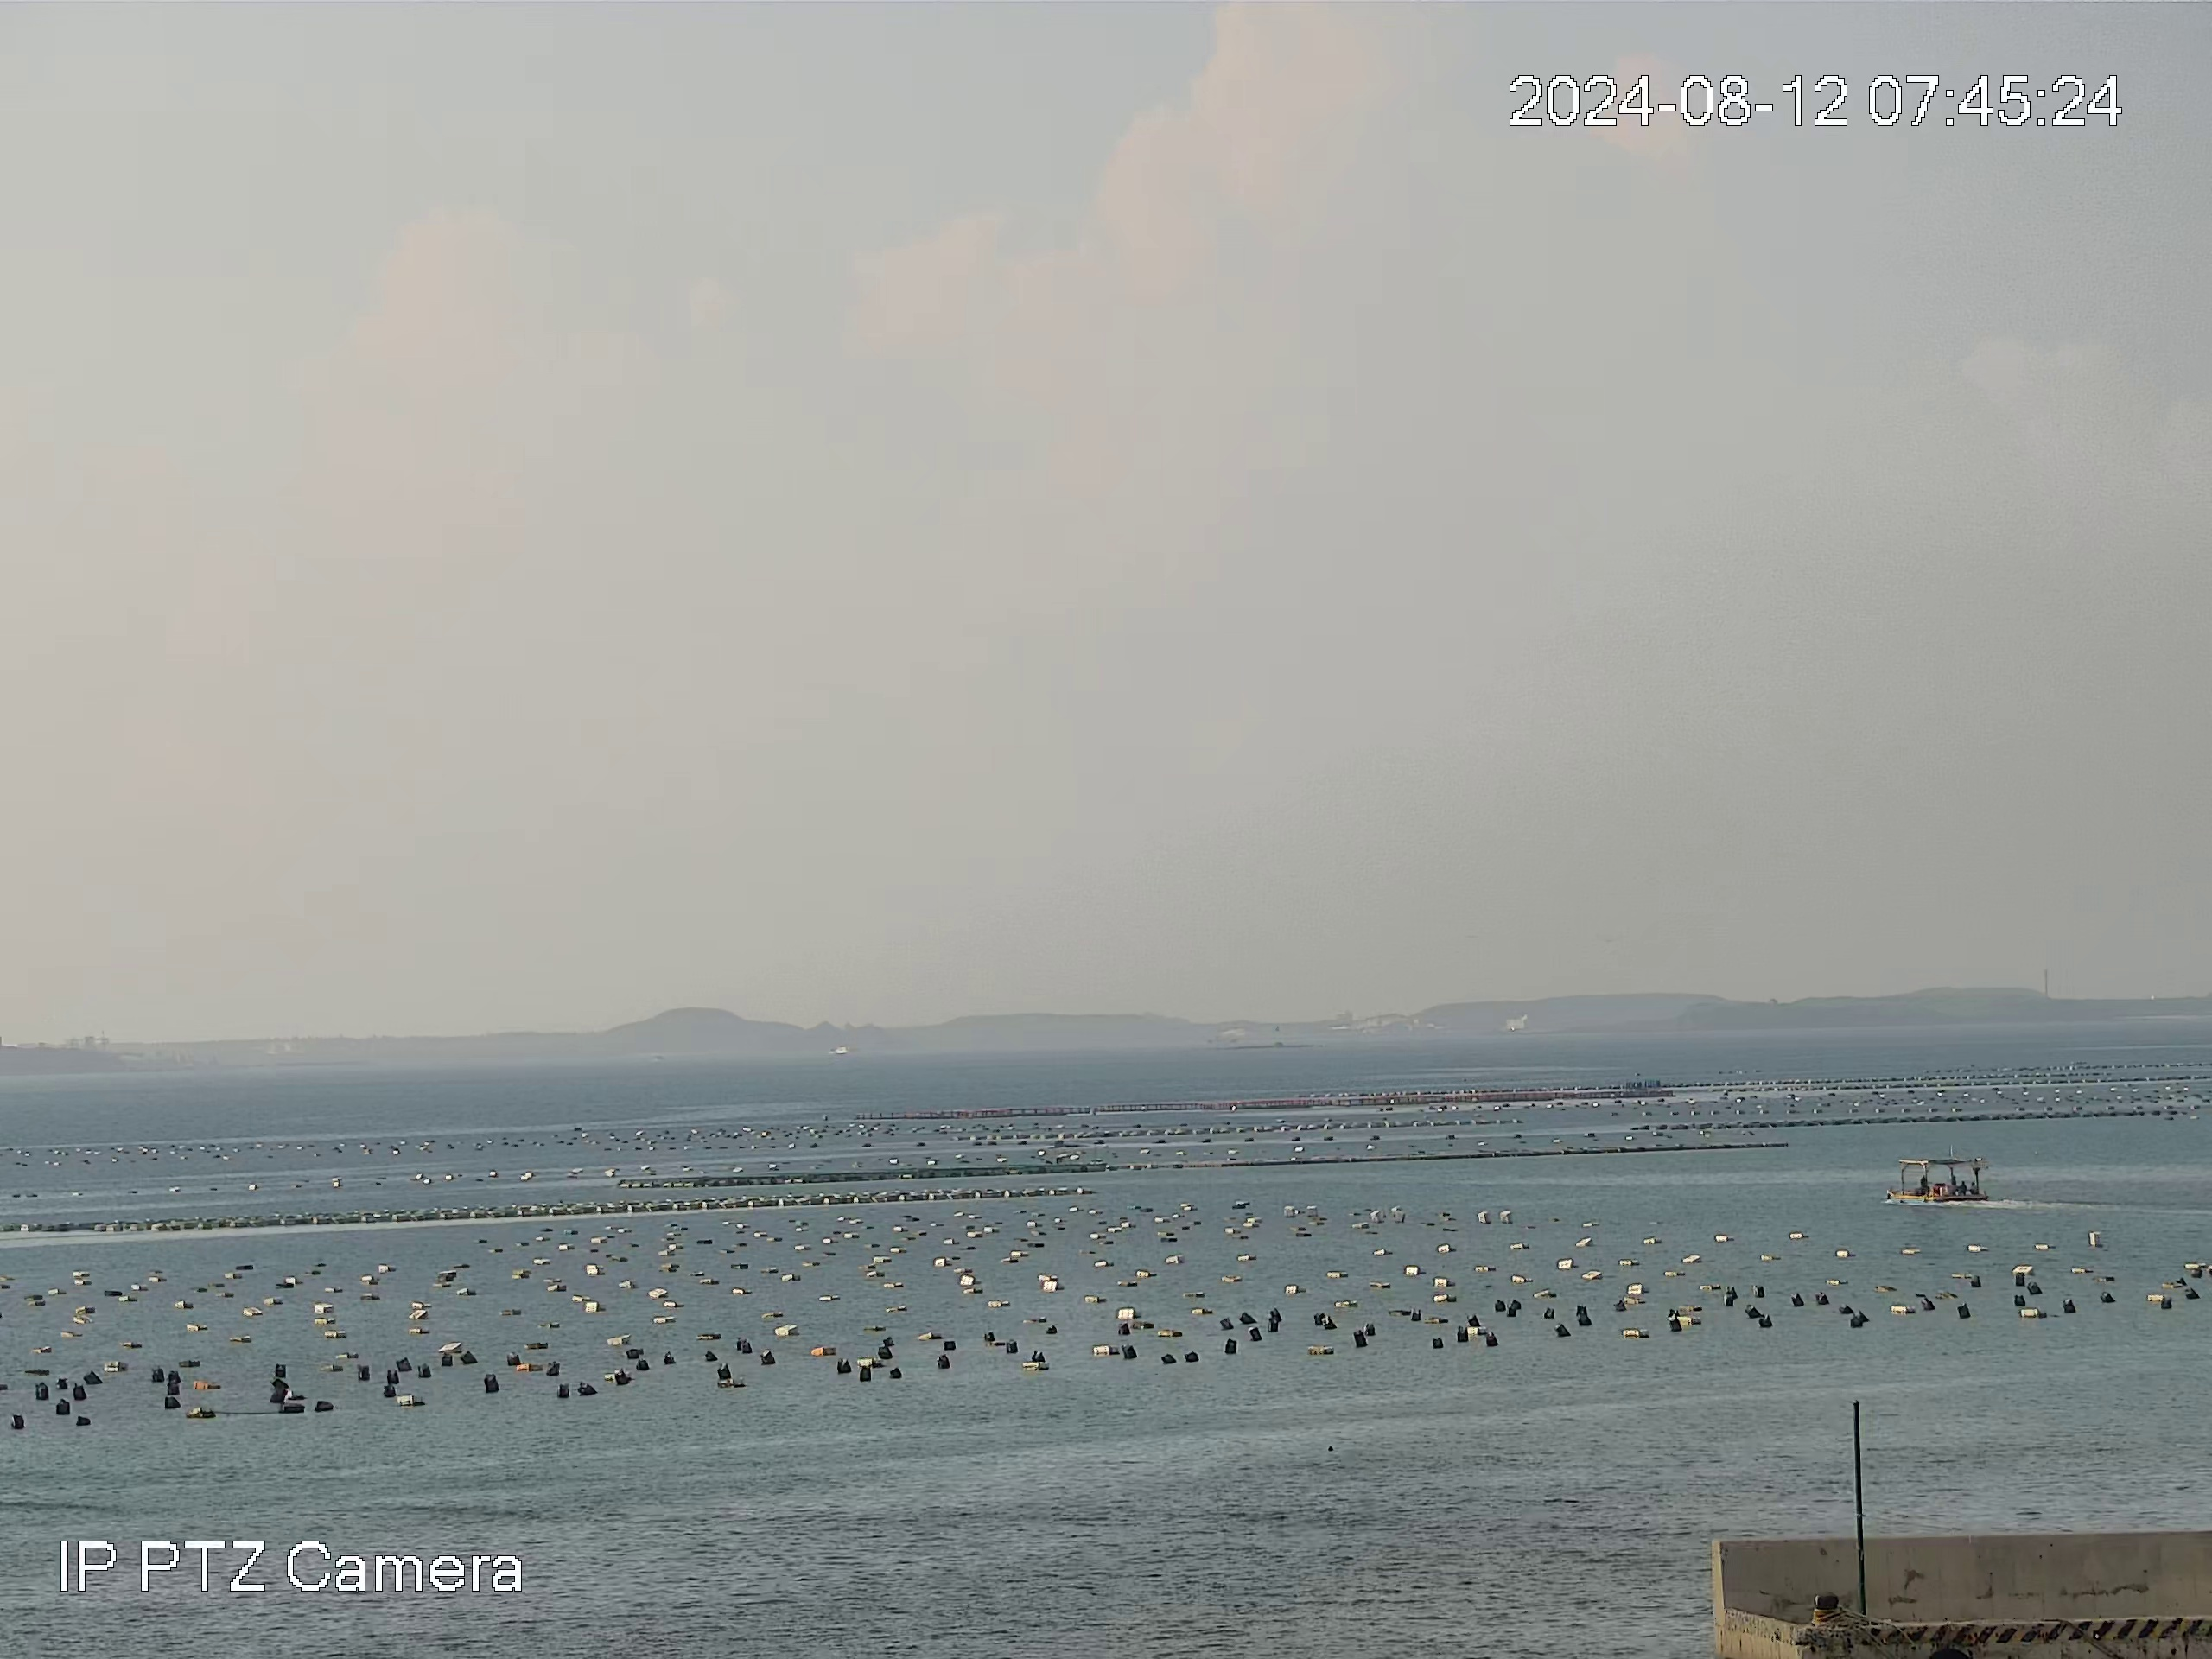boat: (1883, 1150, 2000, 1213)
